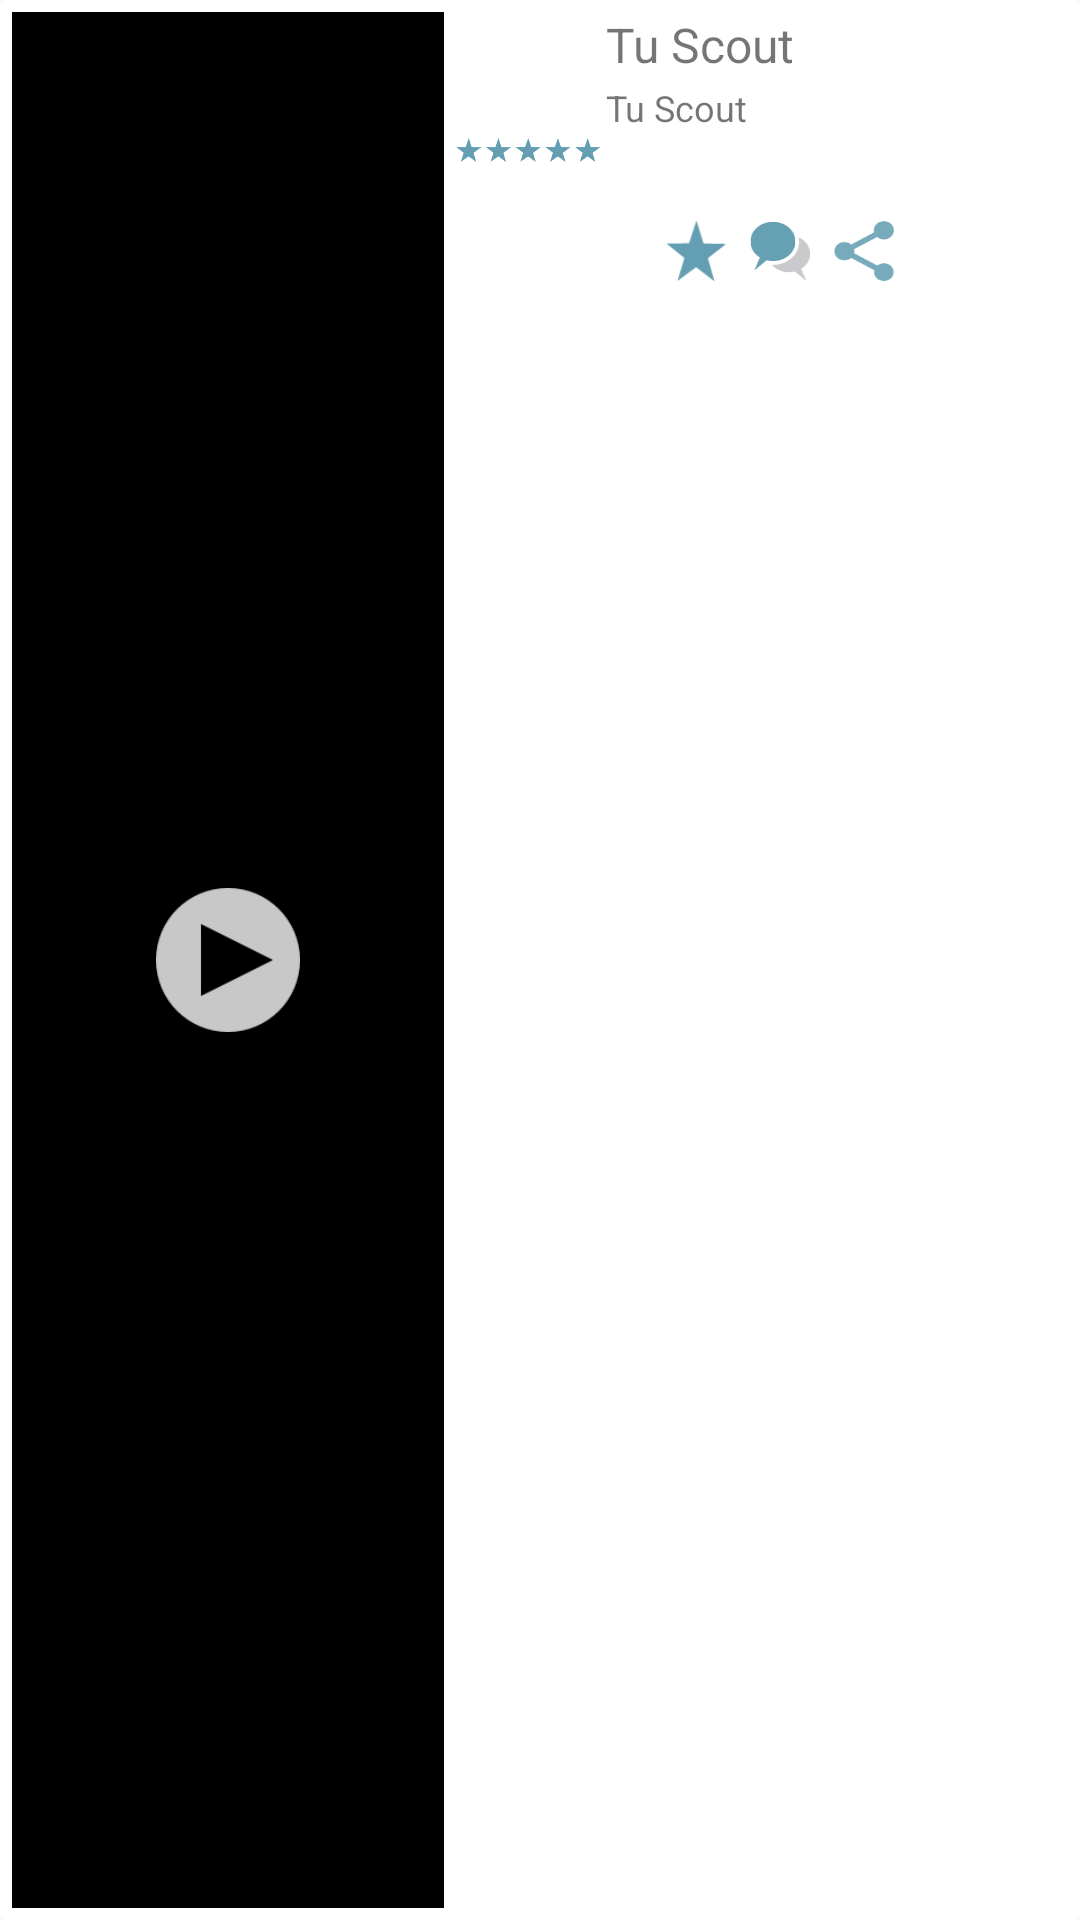

Icons on this 1080px x 1920px Android screen, each with its box as box(x1, y1, x2, y2):
comments: box(750, 222, 810, 280)
play video item: box(156, 888, 300, 1032)
share: box(834, 221, 894, 281)
star: box(667, 221, 726, 281)
stars: box(456, 138, 600, 162)
